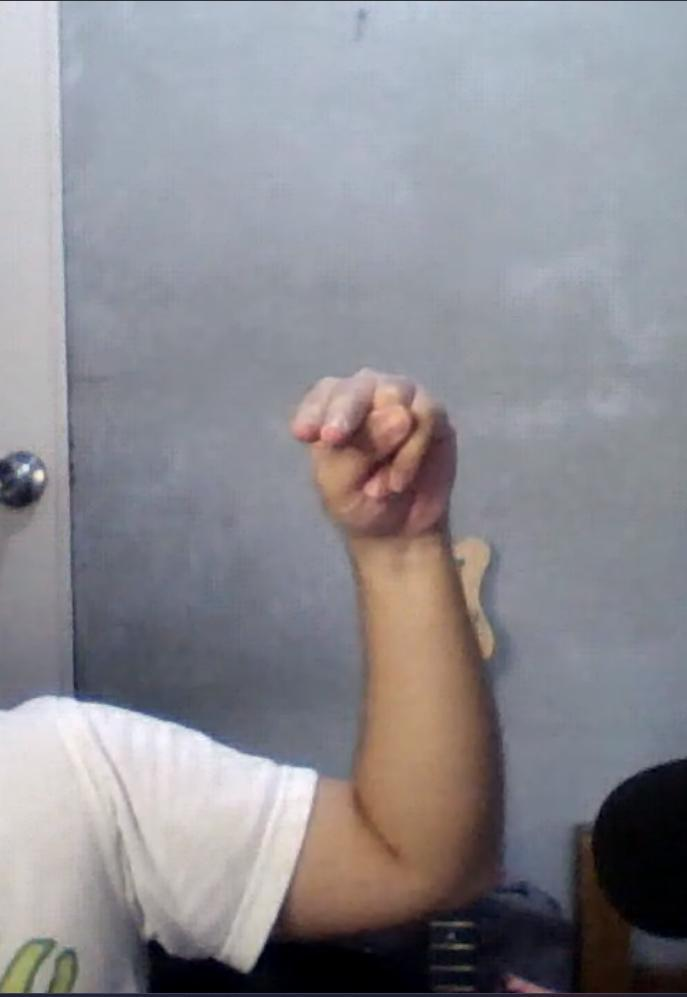n: (290, 368, 469, 534)
